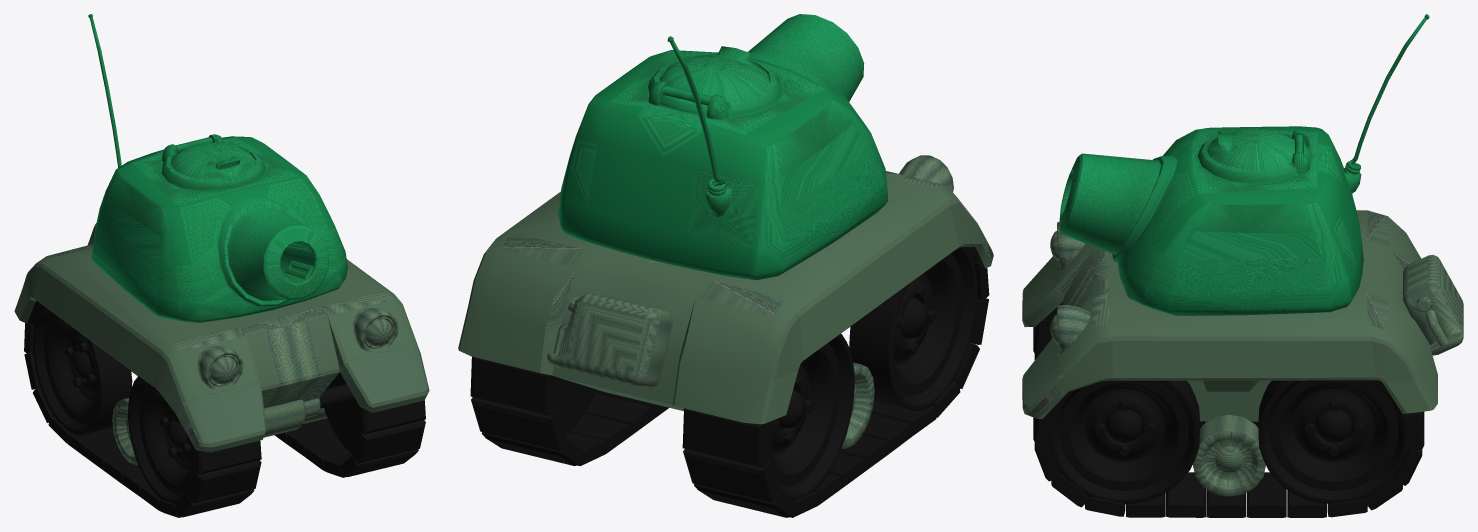
The model's file is Tank_5.FBX.
3 renders of one model, left to right at view 1: azimuth 30°, elevation 25°; view 2: azimuth 150°, elevation 25°; view 3: azimuth 270°, elevation 25°, orthographic. The views are drawn at different scales.
Parts seen in each view (by area): view 1: TankChassis, TankTurret, TankTracksRight, TankTracksLeft; view 2: TankChassis, TankTurret, TankTracksRight, TankTracksLeft; view 3: TankChassis, TankTurret, TankTracksLeft, TankTracksRight.
Part boxes in pixels (box(x1,y1,x2,y2)): TankChassis: box(14, 223, 429, 464); TankTurret: box(88, 14, 347, 322); TankTracksRight: box(24, 300, 261, 517); TankTracksLeft: box(274, 372, 425, 477); TankChassis: box(458, 155, 993, 448); TankTurret: box(558, 14, 888, 279); TankTracksRight: box(682, 246, 989, 517); TankTracksLeft: box(470, 356, 668, 466); TankChassis: box(1022, 210, 1463, 496); TankTurret: box(1059, 14, 1429, 315); TankTracksLeft: box(1033, 380, 1424, 517); TankTracksRight: box(1033, 302, 1258, 428).
Bounding box in the file's own units: 1.7 × 2.49 × 2.37.
